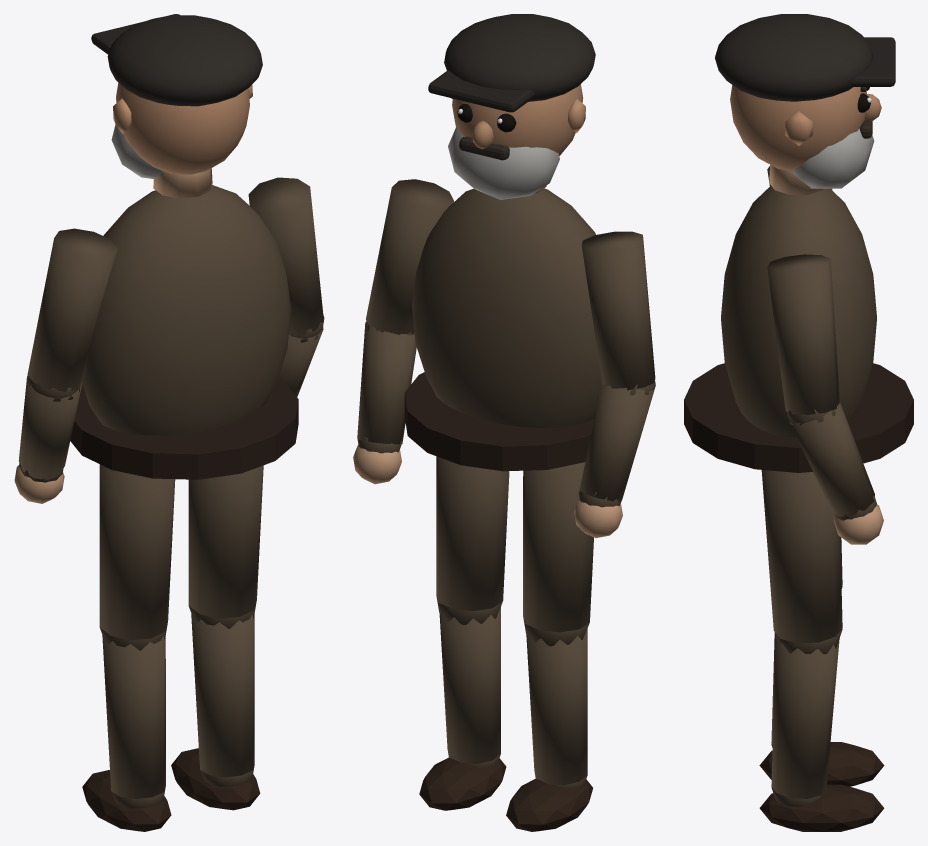
Rendered from shepherd.glb.
The picture shows the model from 3 angles, left to right: view 1: azimuth 30°, elevation 25°; view 2: azimuth 150°, elevation 25°; view 3: azimuth 270°, elevation 25°; orthographic projection. The views are drawn at different scales.
Visible parts, largest first — view 1: limb; view 2: limb; view 3: limb.
Part boxes in pixels (x1=…): limb: x1=14, y1=14, x2=324, y2=831; limb: x1=353, y1=14, x2=655, y2=831; limb: x1=684, y1=14, x2=913, y2=831.
Bounding box in the file's own units: 0.7189 × 1.87 × 0.5.
